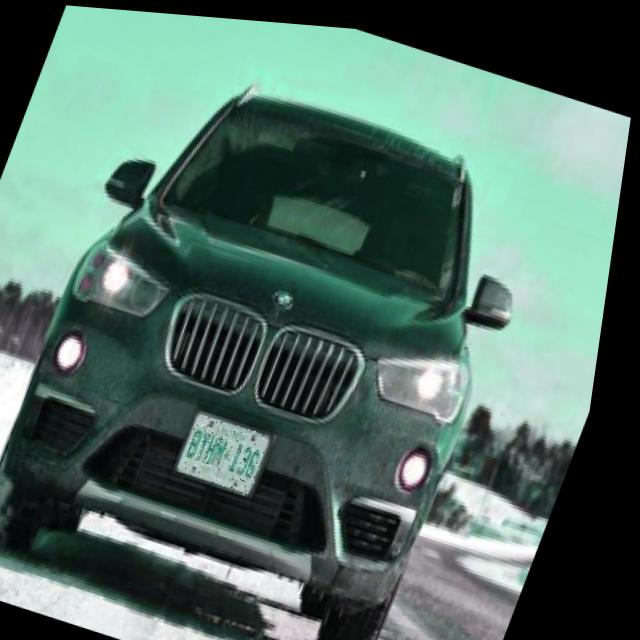license_plate: (187, 407, 285, 493)
